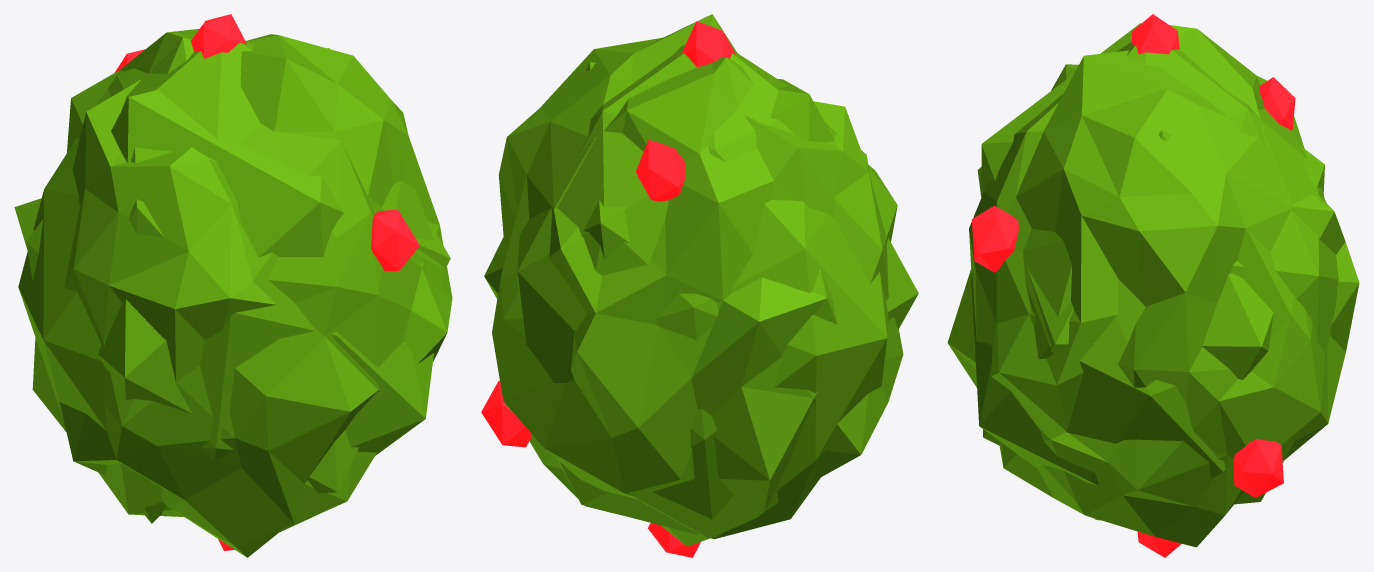
The model's file is Bush1.fbx.
The picture shows the model from 3 angles, left to right: view 1: azimuth 30°, elevation 25°; view 2: azimuth 150°, elevation 25°; view 3: azimuth 270°, elevation 25°; orthographic projection. The views are drawn at different scales.
Parts seen in each view (by area): view 1: GeneratedLeaves, Overrided_LOD_TEST, Overrided_LOD_TEST_1, Merged; view 2: GeneratedLeaves, Overrided_LOD_TEST, Overrided_LOD_TEST_1, Merged; view 3: GeneratedLeaves, Overrided_LOD_TEST, Overrided_LOD_TEST_1, Merged.
Boxes of the visible parts, x1,y1,x2,y2 form: GeneratedLeaves: (14,29,452,557); Overrided_LOD_TEST: (18,40,444,516); Overrided_LOD_TEST_1: (98,48,450,504); Merged: (114,14,419,550); GeneratedLeaves: (492,14,903,546); Overrided_LOD_TEST: (516,44,888,539); Overrided_LOD_TEST_1: (484,62,918,329); Merged: (481,21,735,557); GeneratedLeaves: (947,25,1359,547); Overrided_LOD_TEST: (971,42,1338,504); Overrided_LOD_TEST_1: (981,23,1324,445); Merged: (971,14,1295,557).
Size of the model in its own units: 179 by 238 by 170.
